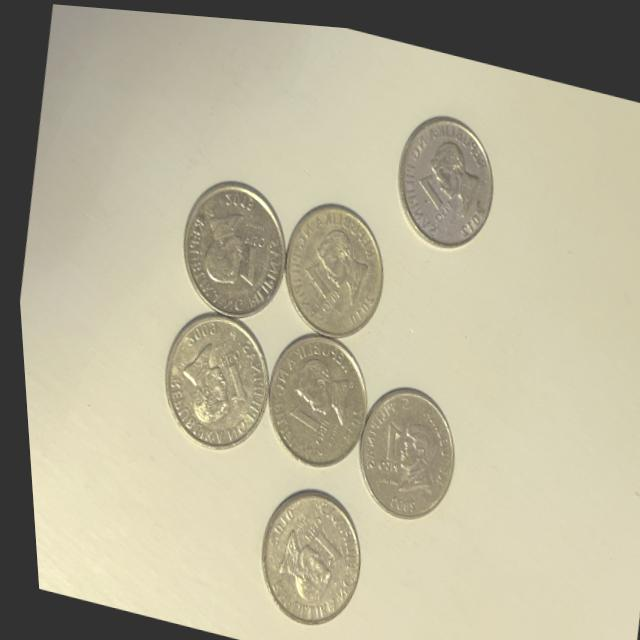1_Old_Front: (396, 162, 459, 232), (204, 328, 254, 410), (281, 504, 338, 566), (286, 253, 345, 312), (358, 404, 406, 474), (223, 215, 269, 287), (276, 392, 324, 445)
